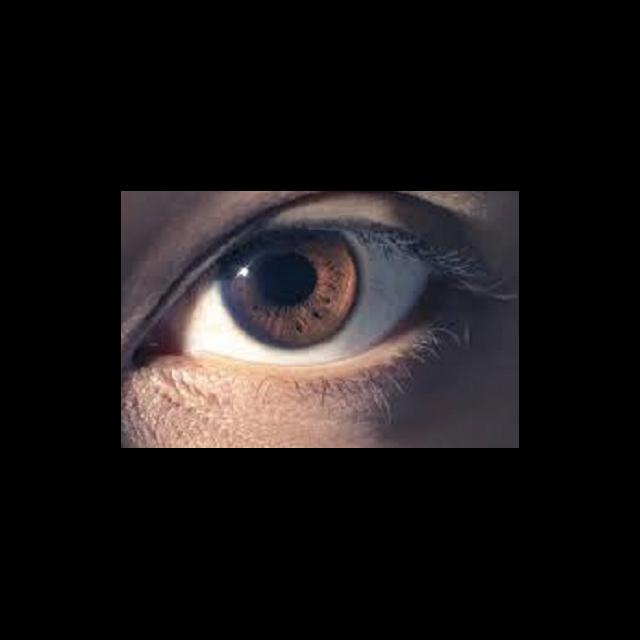eye: (167, 228, 434, 367)
iris: (220, 232, 360, 350)
